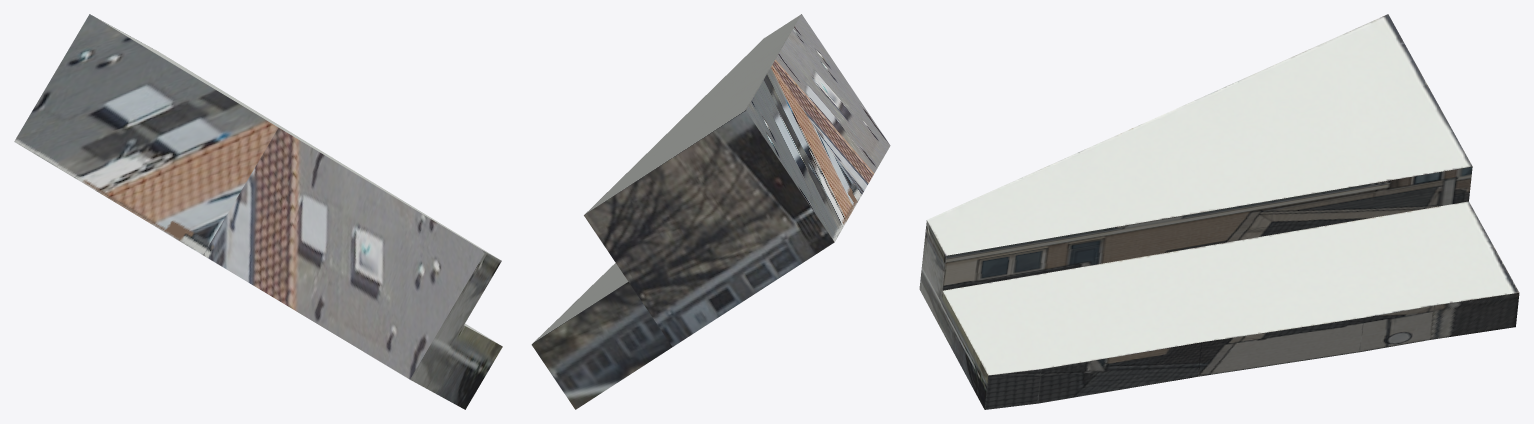
3 views of the same model, side by side, from view 1: azimuth 30°, elevation 25°; view 2: azimuth 150°, elevation 25°; view 3: azimuth 270°, elevation 25° (orthographic). The views are drawn at different scales.
Parts seen in each view (by area): view 1: BAG_0599100010057617 (×3); view 2: BAG_0599100010057617 (×3); view 3: BAG_0599100010057617 (×6).
Part boxes in pixels (x1,y1,x2,y2): BAG_0599100010057617 (×3): [14, 14, 502, 409]; BAG_0599100010057617 (×3): [531, 14, 890, 409]; BAG_0599100010057617 (×6): [919, 14, 1519, 409].
Bounding box in the file's own units: 11.88 × 11.29 × 20.09.
Materials: 1 (1 with a texture image).
